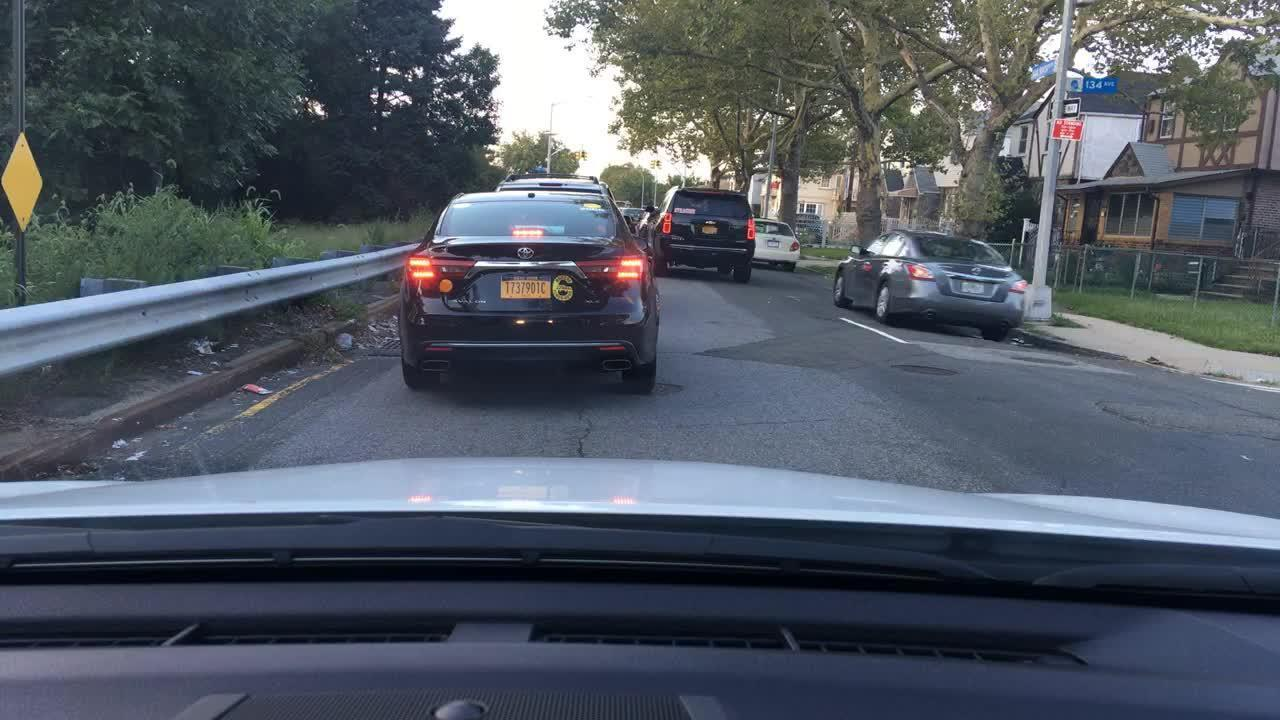Nissan: (966, 266, 987, 280)
Toyota: (511, 238, 539, 268), (702, 216, 723, 229)
